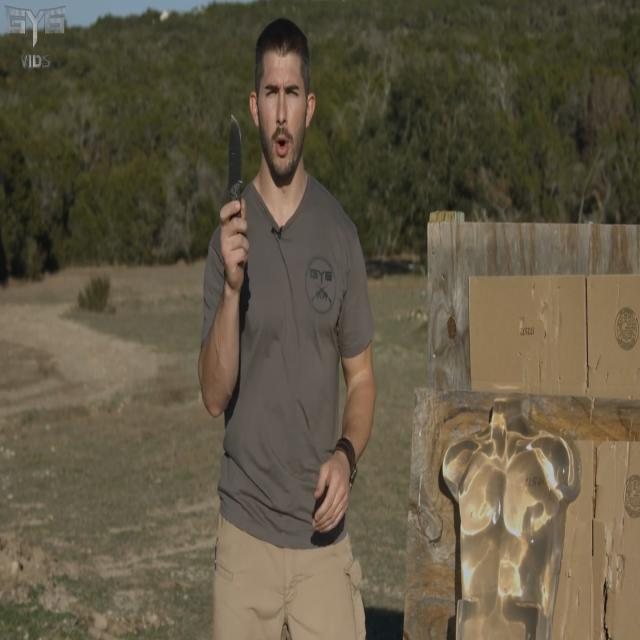knife: (225, 110, 245, 200)
